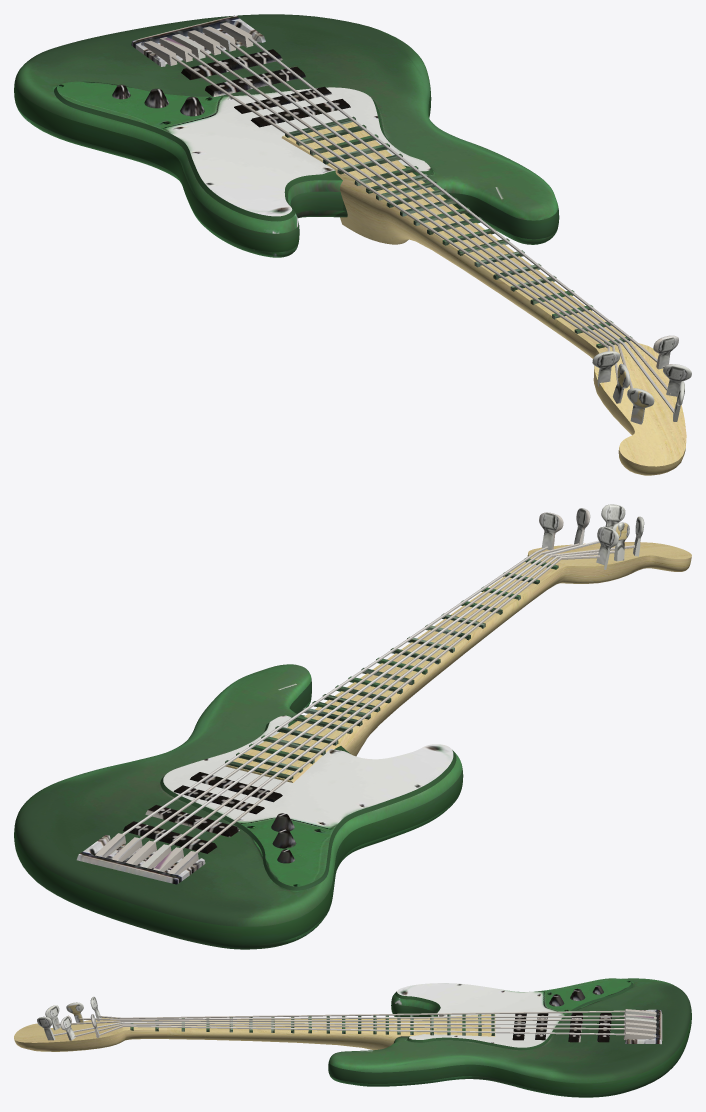
File: 10380_ElectricGuitar_v3_L3.obj
3 views of the same model, one above another, from view 1: azimuth 30°, elevation 25°; view 2: azimuth 150°, elevation 25°; view 3: azimuth 270°, elevation 25° (orthographic). The views are drawn at different scales.
Visible parts, largest first — view 1: 10380_ElectricGuitar_v03; view 2: 10380_ElectricGuitar_v03; view 3: 10380_ElectricGuitar_v03.
Part boxes in pixels (bbox=[...]): 10380_ElectricGuitar_v03: bbox=[14, 14, 691, 475]; 10380_ElectricGuitar_v03: bbox=[14, 504, 691, 949]; 10380_ElectricGuitar_v03: bbox=[14, 978, 691, 1097].
Size of the model in its own units: 41.04 by 9.38 by 116.
1 material, 1 textured.
